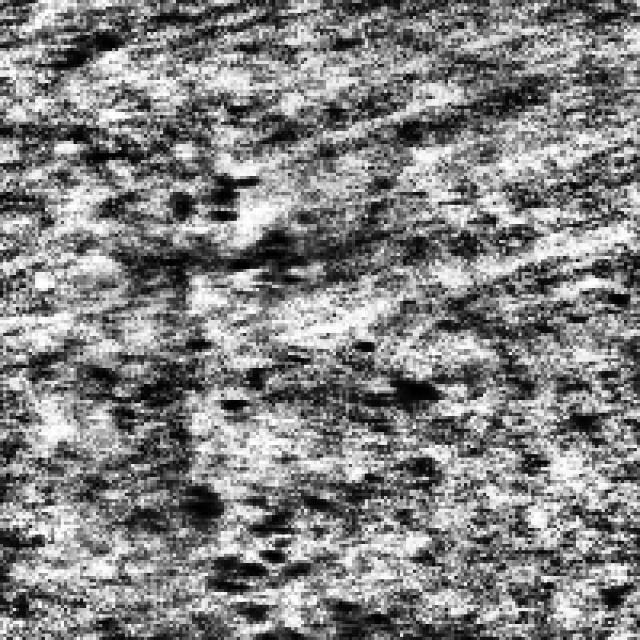Crazing: (70, 125, 298, 397), (176, 454, 403, 637)
